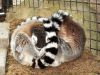cat: (6, 12, 60, 74), (50, 12, 91, 73)
